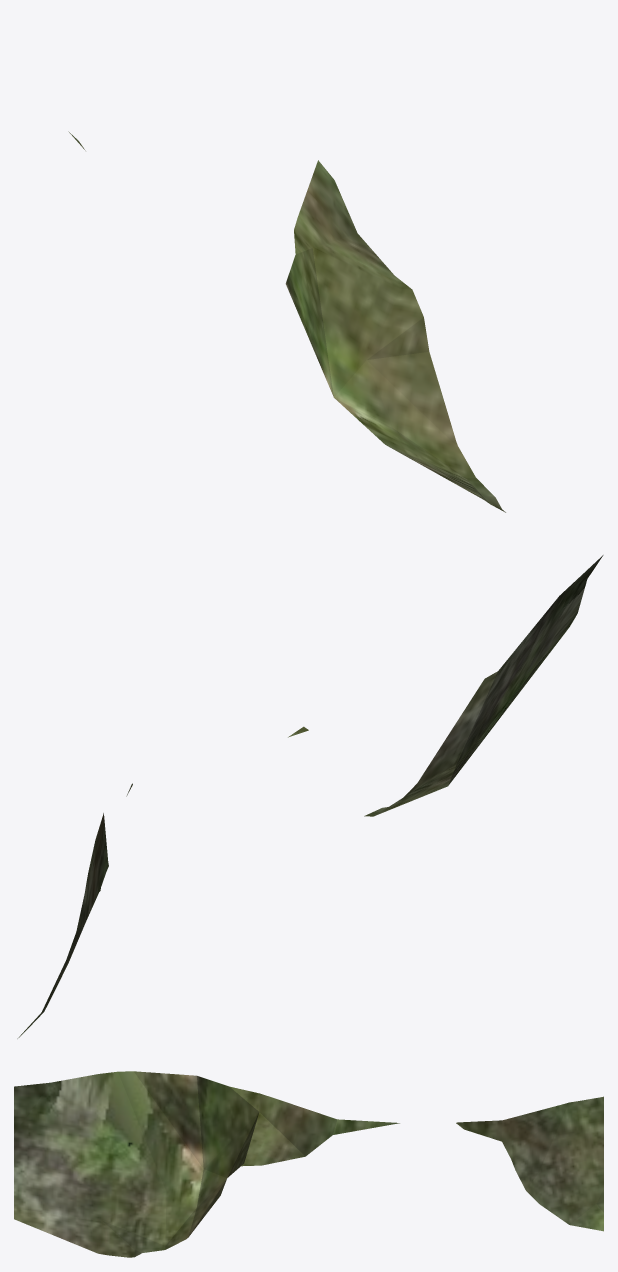
The picture shows the model from 3 angles, top to bottom: view 1: azimuth 30°, elevation 25°; view 2: azimuth 150°, elevation 25°; view 3: azimuth 270°, elevation 25°; orthographic projection. The views are drawn at different scales.
Size of the model in its own units: 0.6124 by 0.7427 by 2.95.
Materials: 1 (1 with a texture image).
